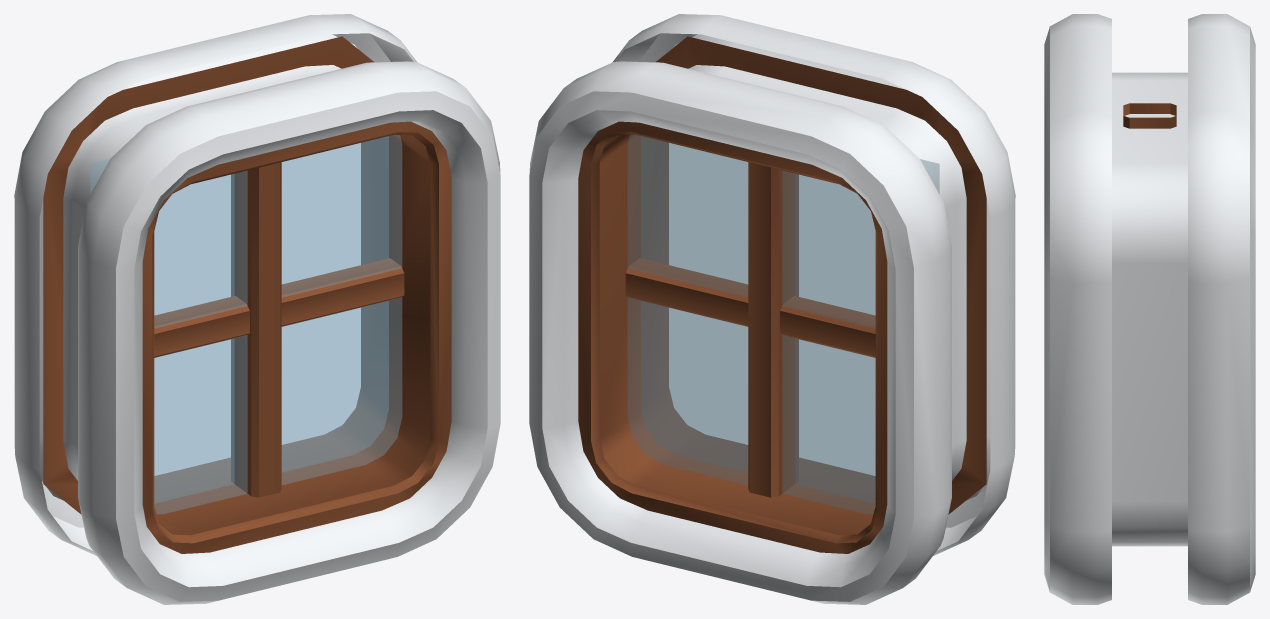
Rendered from janela_natal_quadrada_pacote.glb.
3 views of the same model, side by side, from view 1: azimuth 30°, elevation 25°; view 2: azimuth 150°, elevation 25°; view 3: azimuth 270°, elevation 25° (orthographic).
Visible parts, largest first — view 1: janela_natal_quadrada_pacote; view 2: janela_natal_quadrada_pacote; view 3: janela_natal_quadrada_pacote.
Part boxes in pixels (bbox=[...]): janela_natal_quadrada_pacote: bbox=[14, 14, 500, 604]; janela_natal_quadrada_pacote: bbox=[529, 14, 1015, 604]; janela_natal_quadrada_pacote: bbox=[1044, 14, 1255, 604].
Bounding box in the file's own units: 1.1 × 1.26 × 0.5013.
Materials: 2 (1 with a texture image).
